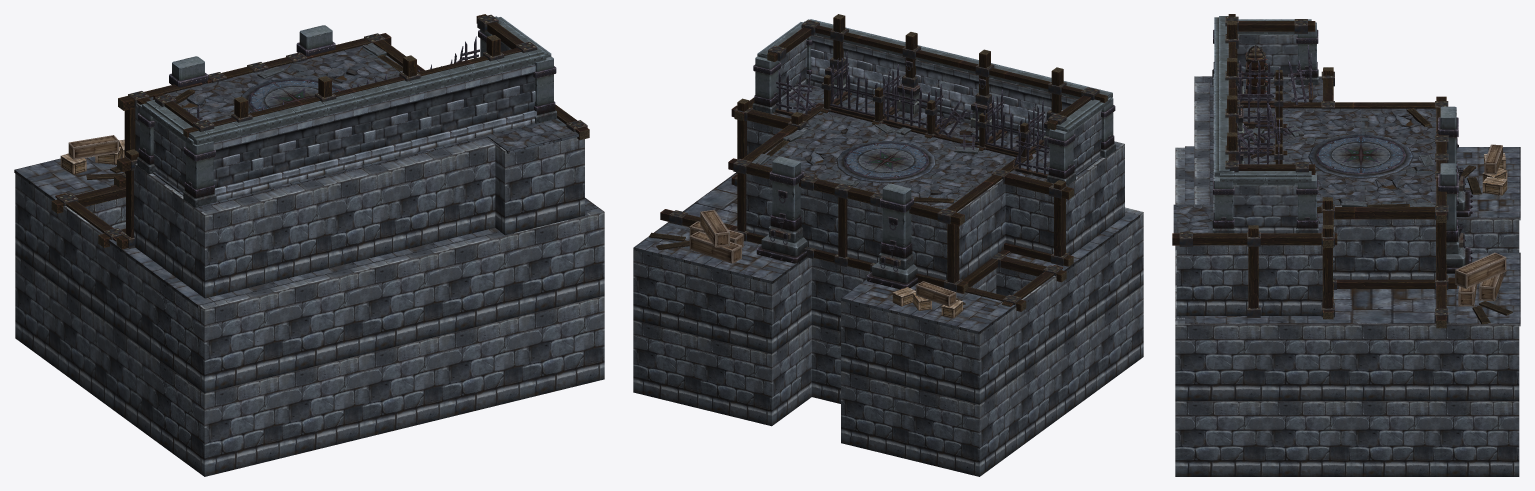
Rendered from cell3LR.fbx.
The picture shows the model from 3 angles, left to right: view 1: azimuth 30°, elevation 25°; view 2: azimuth 150°, elevation 25°; view 3: azimuth 270°, elevation 25°; orthographic projection. The views are drawn at different scales.
Parts seen in each view (by area): view 1: cell3LR; view 2: cell3LR; view 3: cell3LR.
Boxes of the visible parts, x1,y1,x2,y2 form: cell3LR: [14, 14, 604, 476]; cell3LR: [633, 14, 1143, 476]; cell3LR: [1172, 14, 1520, 476].
Size of the model in its own units: 22.99 by 17.9 by 18.4.
